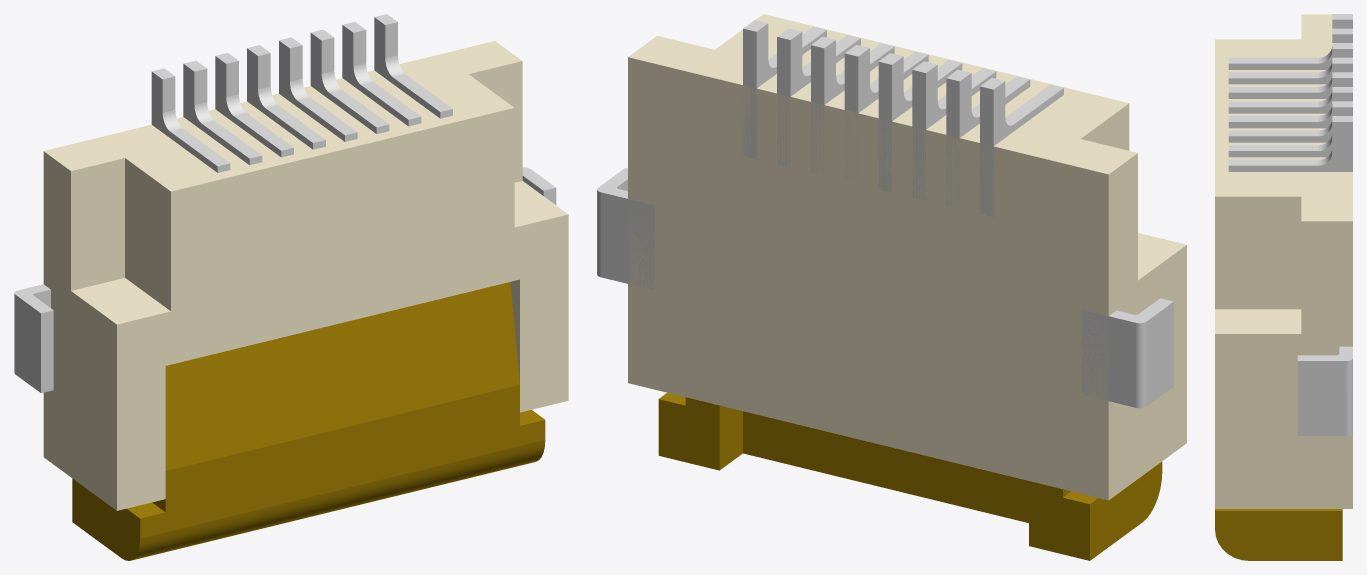
Rendered from Hirose_FH12-8S-0.5SH_1x08-1MP_P0.50mm_Horizontal.glb.
3 views of the same model, side by side, from view 1: azimuth 30°, elevation 25°; view 2: azimuth 150°, elevation 25°; view 3: azimuth 270°, elevation 25° (orthographic). The views are drawn at different scales.
Parts seen in each view (by area): view 1: Shape_IndexedFaceSet.005, Shape_IndexedFaceSet.023, Shape_IndexedFaceSet.016, Shape_IndexedFaceSet, Shape_IndexedFaceSet.008, Shape_IndexedFaceSet.018, Shape_IndexedFaceSet.007, Shape_IndexedFaceSet.006, Shape_IndexedFaceSet.020, Shape_IndexedFaceSet.014, Shape_IndexedFaceSet.003, Shape_IndexedFaceSet.149 (+10 smaller); view 2: Shape_IndexedFaceSet.001, Shape_IndexedFaceSet, Shape_IndexedFaceSet.008, Shape_IndexedFaceSet.030, Shape_IndexedFaceSet.156, Shape_IndexedFaceSet.147, Shape_IndexedFaceSet.026, Shape_IndexedFaceSet.027, Shape_IndexedFaceSet.020, Shape_IndexedFaceSet.149, Shape_IndexedFaceSet.074, Shape_IndexedFaceSet.100 (+18 smaller); view 3: Shape_IndexedFaceSet.002, Shape_IndexedFaceSet, Shape_IndexedFaceSet.004, Shape_IndexedFaceSet.017, Shape_IndexedFaceSet.140, Shape_IndexedFaceSet.010, Shape_IndexedFaceSet.066, Shape_IndexedFaceSet.038, Shape_IndexedFaceSet.058, Shape_IndexedFaceSet.050, Shape_IndexedFaceSet.054, Shape_IndexedFaceSet.062 (+13 smaller).
Boxes of the visible parts, x1,y1,x2,y2 form: Shape_IndexedFaceSet.005: (117,108,568,510); Shape_IndexedFaceSet.023: (165,282,519,470); Shape_IndexedFaceSet.016: (140,385,545,538); Shape_IndexedFaceSet: (44,41,521,191); Shape_IndexedFaceSet.008: (43,151,116,510); Shape_IndexedFaceSet.018: (131,440,545,560); Shape_IndexedFaceSet.007: (71,158,124,290); Shape_IndexedFaceSet.006: (125,158,170,310); Shape_IndexedFaceSet.020: (72,478,140,560); Shape_IndexedFaceSet.014: (71,278,170,324); Shape_IndexedFaceSet.003: (469,61,522,182); Shape_IndexedFaceSet.149: (15,295,40,392); Shape_IndexedFaceSet.001: (628,57,1108,500); Shape_IndexedFaceSet: (628,14,1137,174); Shape_IndexedFaceSet.008: (1108,153,1186,499); Shape_IndexedFaceSet.030: (743,411,1028,522); Shape_IndexedFaceSet.156: (1081,309,1135,407); Shape_IndexedFaceSet.147: (601,192,654,289); Shape_IndexedFaceSet.026: (658,397,719,470); Shape_IndexedFaceSet.027: (1029,481,1089,560); Shape_IndexedFaceSet.020: (1090,461,1162,560); Shape_IndexedFaceSet.149: (1146,302,1173,405); Shape_IndexedFaceSet.074: (980,86,993,216); Shape_IndexedFaceSet.100: (878,62,891,192); Shape_IndexedFaceSet.002: (1215,221,1352,508); Shape_IndexedFaceSet: (1215,14,1352,221); Shape_IndexedFaceSet.004: (1215,196,1301,309); Shape_IndexedFaceSet.017: (1215,511,1342,560); Shape_IndexedFaceSet.140: (1297,361,1345,435); Shape_IndexedFaceSet.010: (1215,309,1301,333); Shape_IndexedFaceSet.066: (1228,122,1352,171); Shape_IndexedFaceSet.038: (1228,19,1352,69); Shape_IndexedFaceSet.058: (1228,92,1352,142); Shape_IndexedFaceSet.050: (1228,63,1352,113); Shape_IndexedFaceSet.054: (1228,78,1352,128); Shape_IndexedFaceSet.062: (1228,107,1352,157).
Bounding box in the file's own units: 3.19 × 2.52 × 0.7875.
